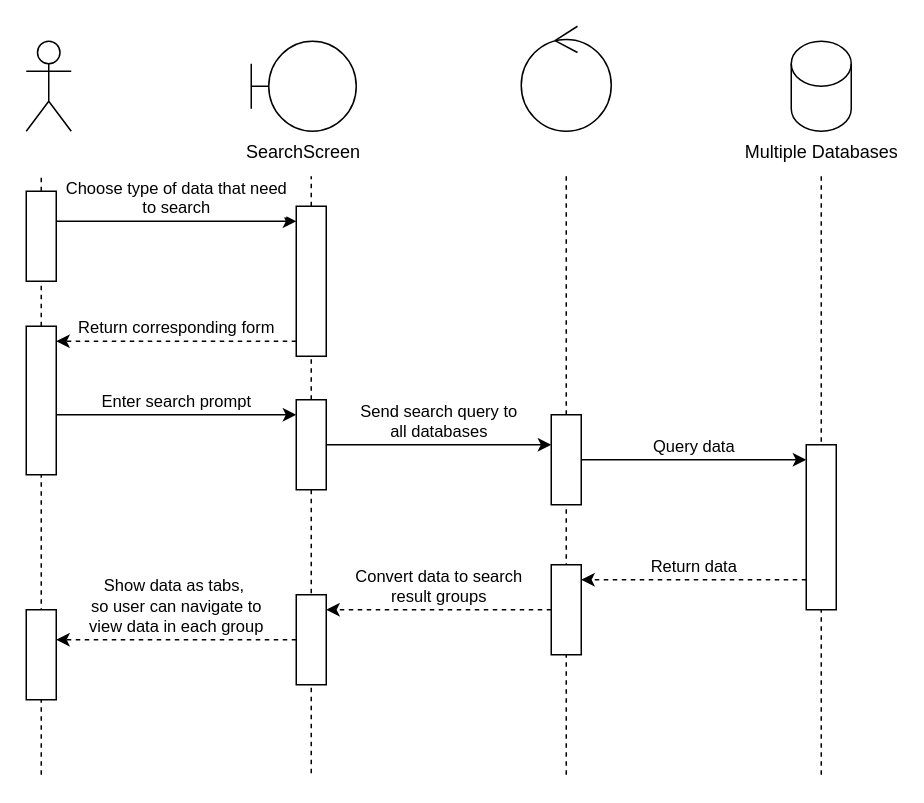
Some shapes in this 924 by 803 pixel diagram are drawn without their labels. Each missing label, with the centre of its shape:
SearchController: pixel 565 78
User: pixel 48 85
